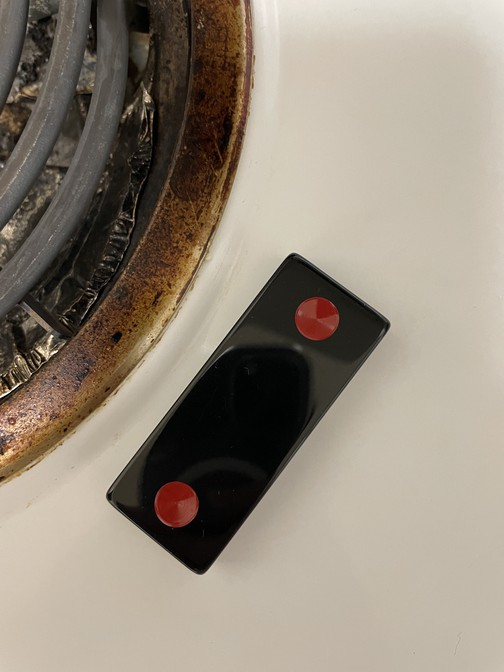earth: (105, 252, 392, 577)
